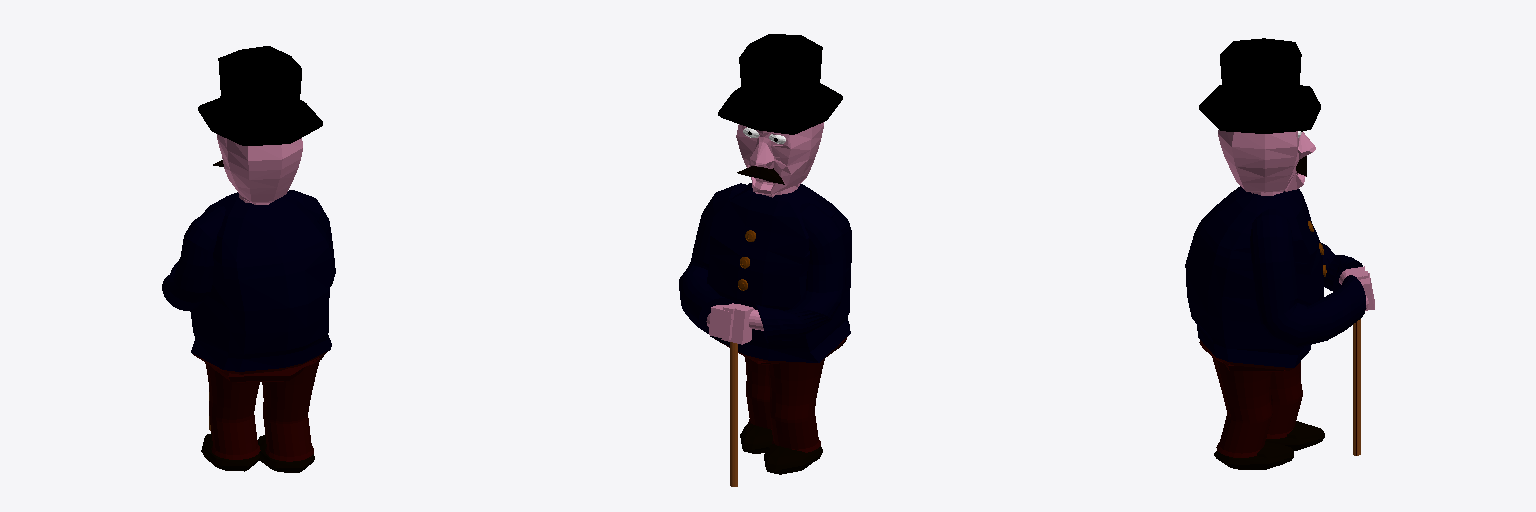
Rendered from character.obj.
3 renders of one model, left to right at view 1: azimuth 30°, elevation 25°; view 2: azimuth 150°, elevation 25°; view 3: azimuth 270°, elevation 25°, orthographic.
Visible parts, largest first — view 1: Sphere_Sphere.002; view 2: Sphere_Sphere.002; view 3: Sphere_Sphere.002.
Boxes of the visible parts, box(x1,y1,x2,y2) form: Sphere_Sphere.002: box(162, 46, 335, 472); Sphere_Sphere.002: box(679, 34, 851, 486); Sphere_Sphere.002: box(1185, 38, 1374, 469).
Bounding box in the file's own units: 2.11 × 5.12 × 2.19.